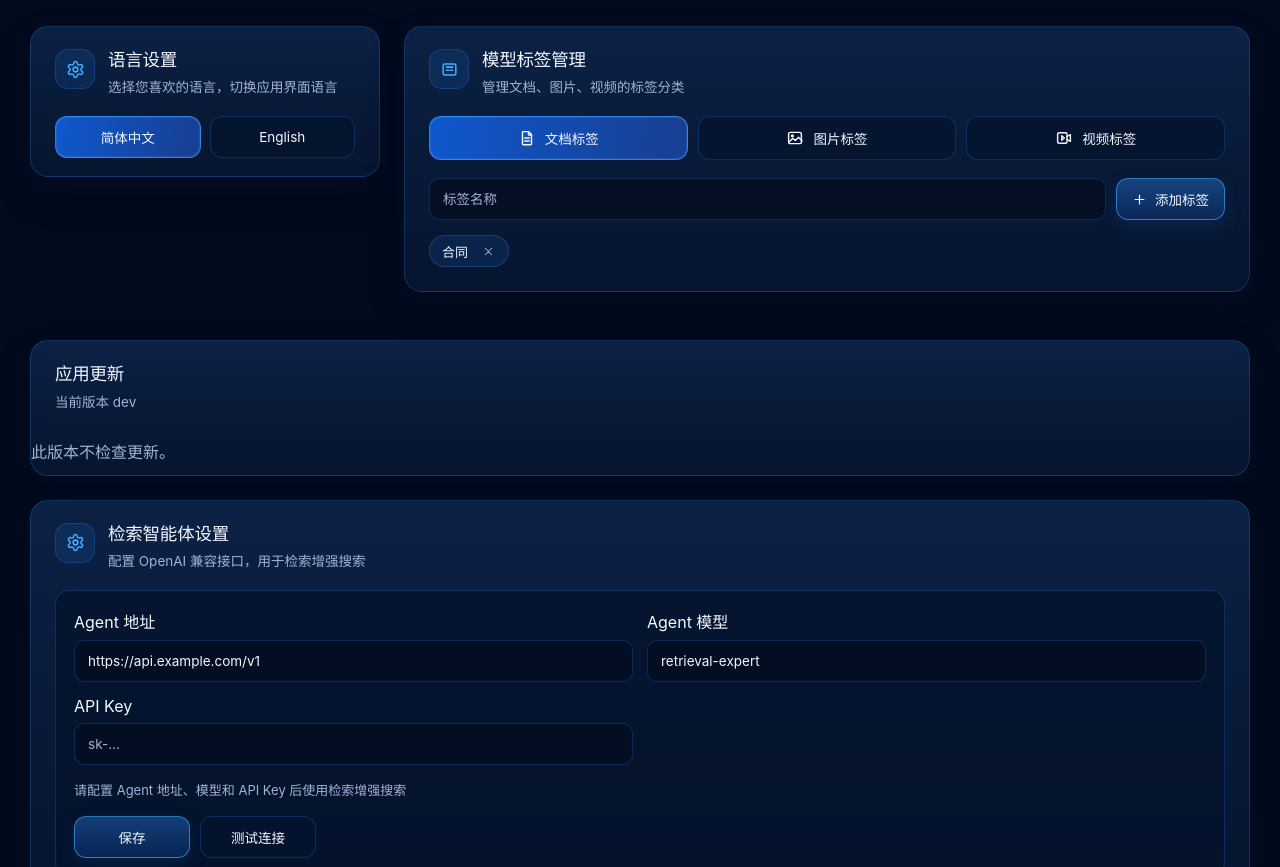
Test case: SettingsPage › shows a backend label mutation failure
The width and height of the screenshot is (1280, 867).
Expected: the text "合同" is shown, [442,242,468,261]
In the field labelled "标签名称": (768, 199) [429,178,1106,220], type "保存失败"
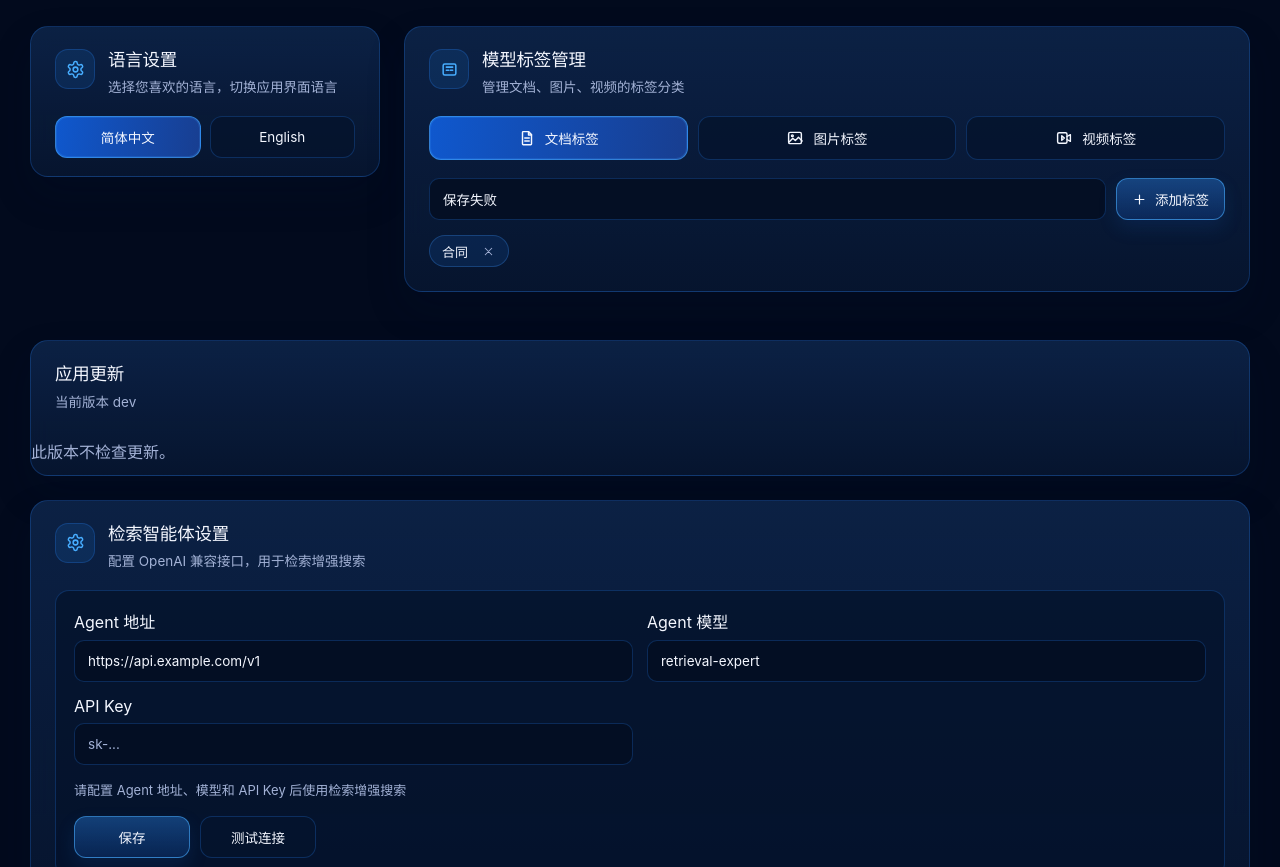
Click the button "添加标签": (1170, 199) [1116,178,1225,220]
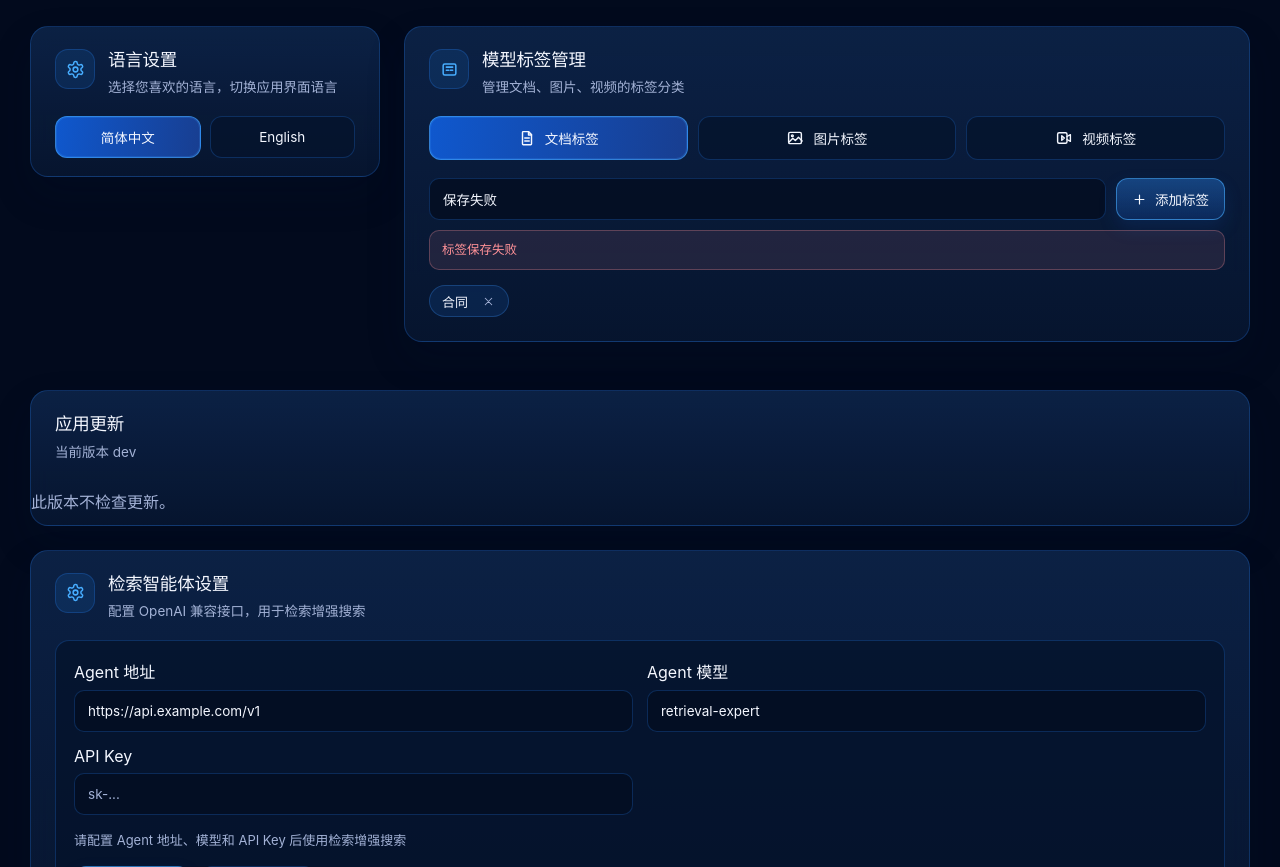
Expected: the text "标签保存失败" is shown, [429,230,1225,270]
